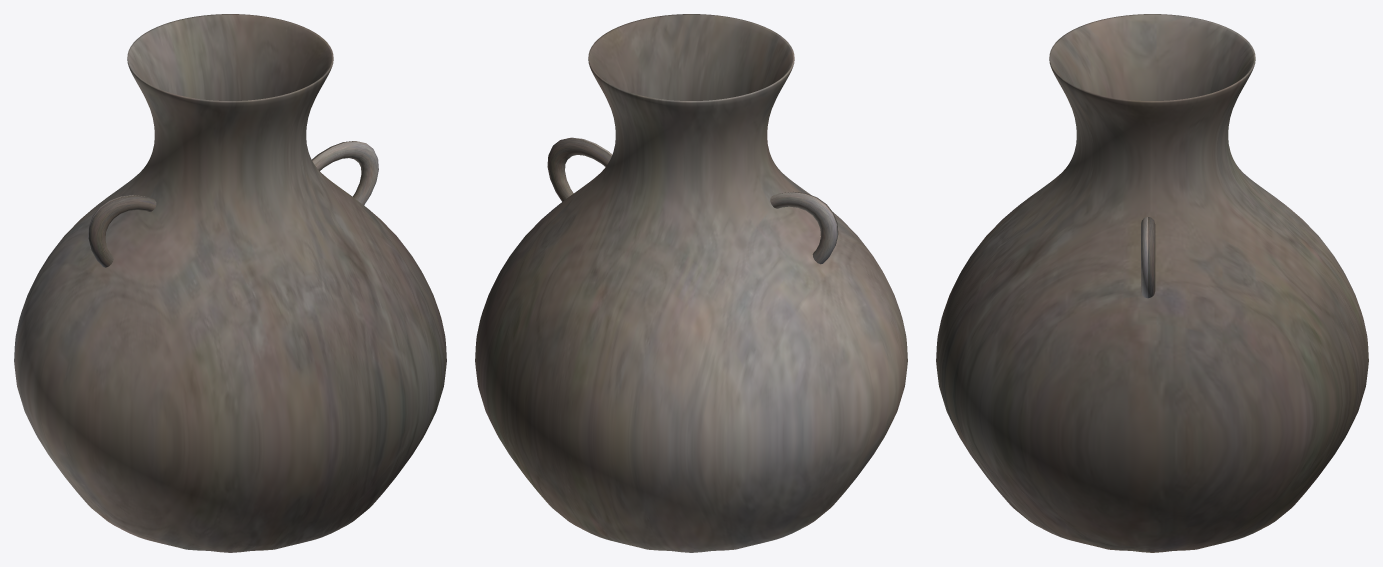
Rendered from 汉代陶瓷罐.FBX.
3 renders of one model, left to right at view 1: azimuth 30°, elevation 25°; view 2: azimuth 150°, elevation 25°; view 3: azimuth 270°, elevation 25°, orthographic.
Visible parts, largest first — view 1: Cylinder001, Torus001, 对象001; view 2: Cylinder001, Torus001, 对象001; view 3: Cylinder001, 对象001.
Part boxes in pixels (bbox=[...]): Cylinder001: bbox=[14, 14, 446, 552]; Torus001: bbox=[88, 195, 156, 267]; 对象001: bbox=[312, 141, 378, 205]; Cylinder001: bbox=[475, 14, 907, 552]; Torus001: bbox=[770, 191, 838, 264]; 对象001: bbox=[547, 137, 612, 201]; Cylinder001: bbox=[936, 14, 1368, 552]; 对象001: bbox=[1141, 217, 1155, 298].
Size of the model in its own units: 71.31 by 82.42 by 71.3.
Materials: 1 (1 with a texture image).
